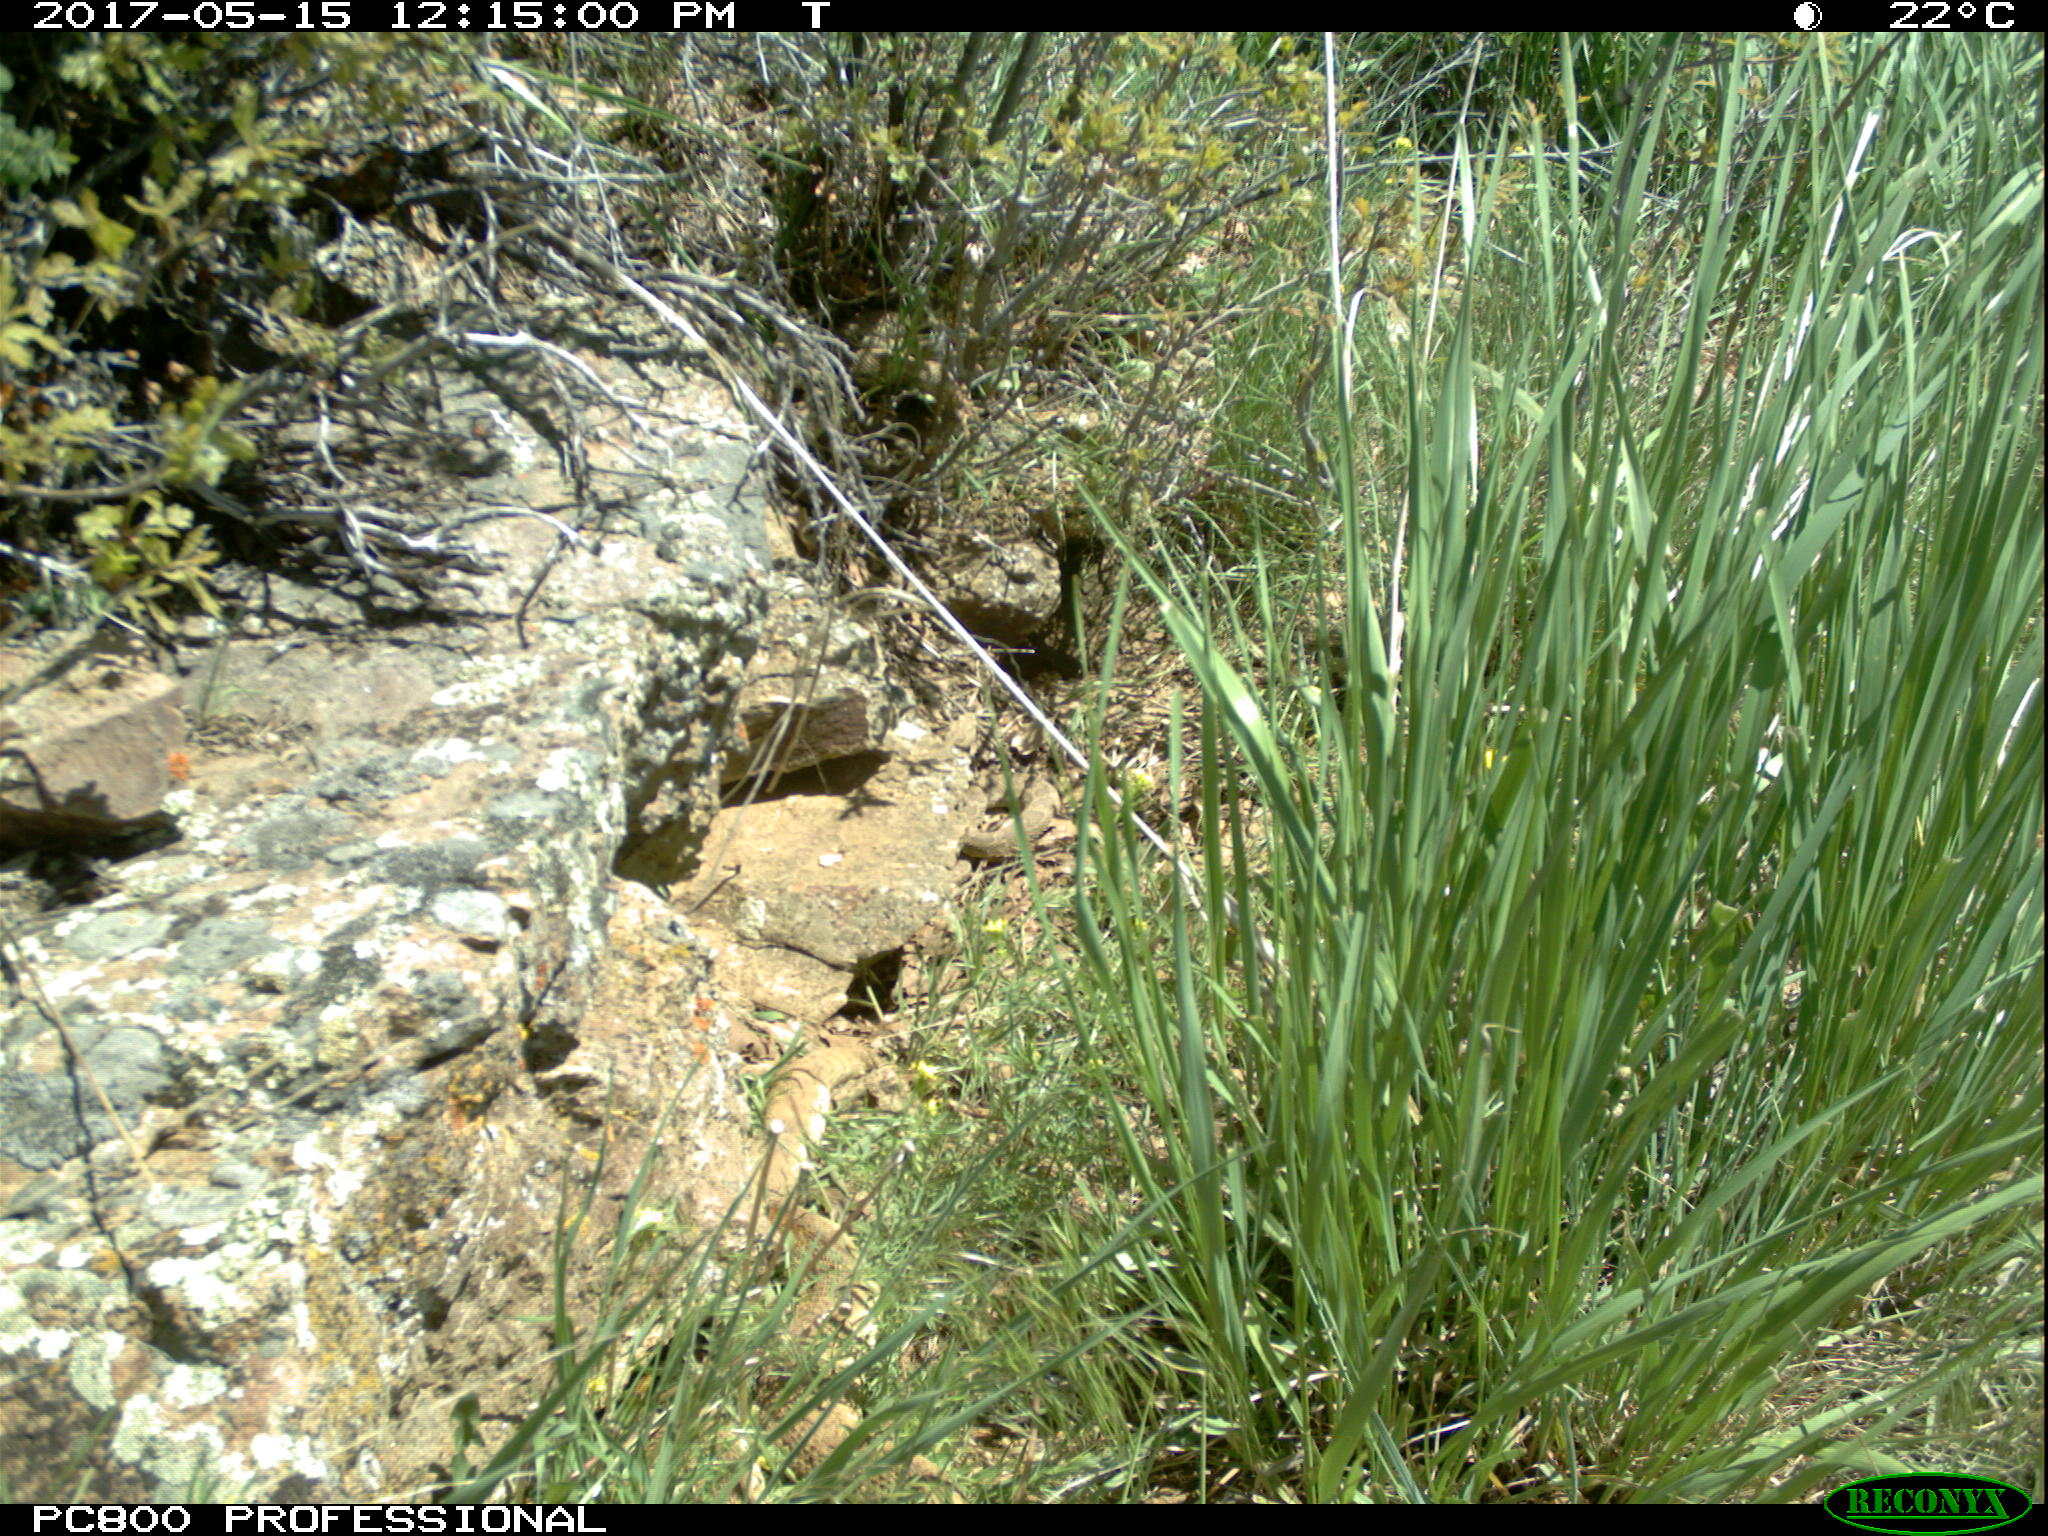snake: (753, 1044, 856, 1484), (963, 773, 1066, 854)
